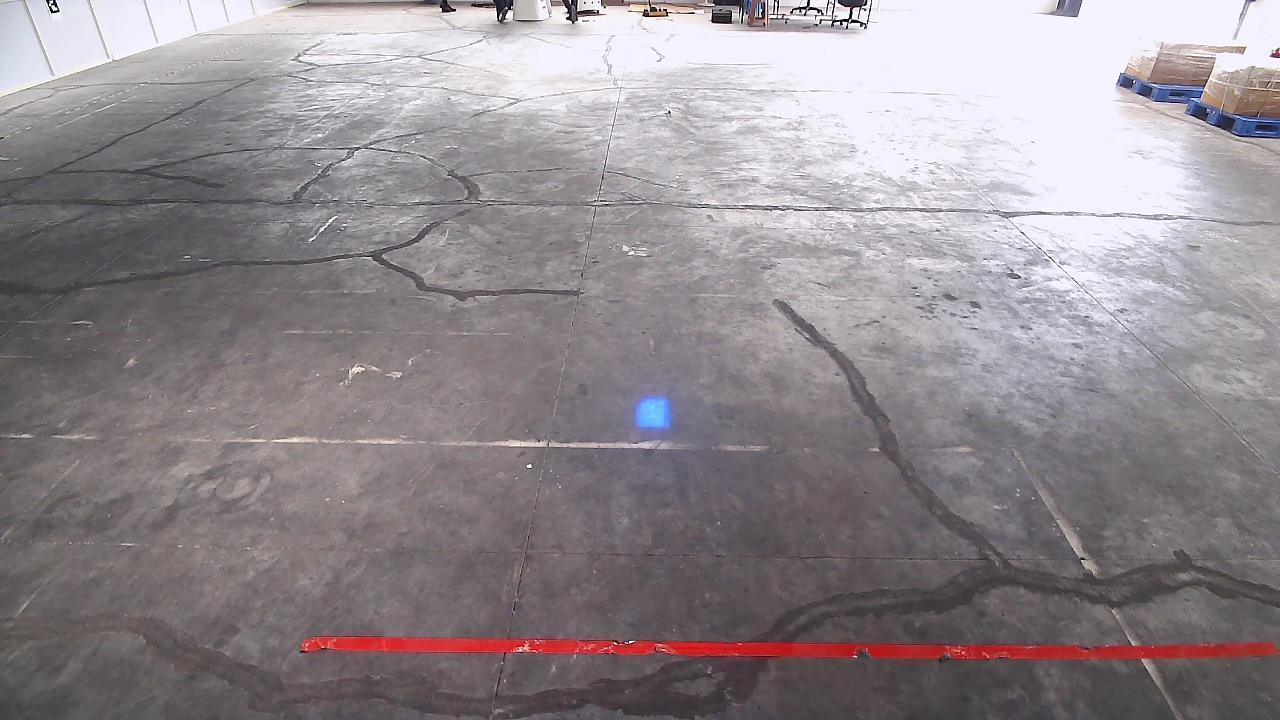red_line: (297, 626, 1279, 668)
